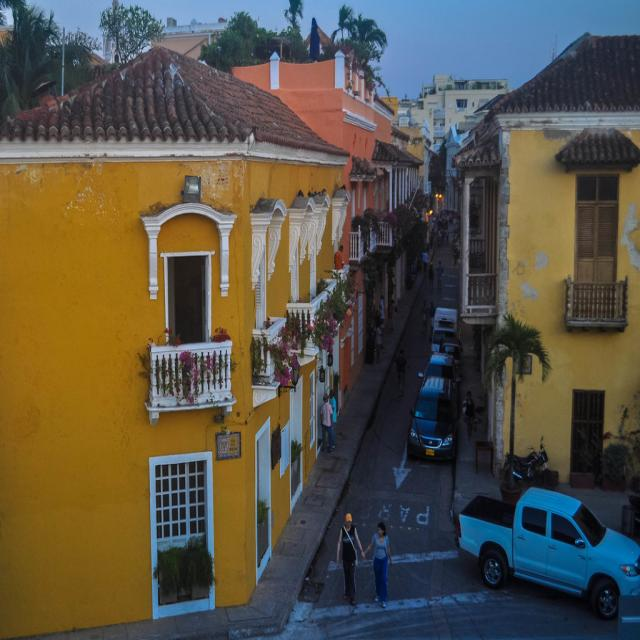car: (406, 375, 458, 461)
